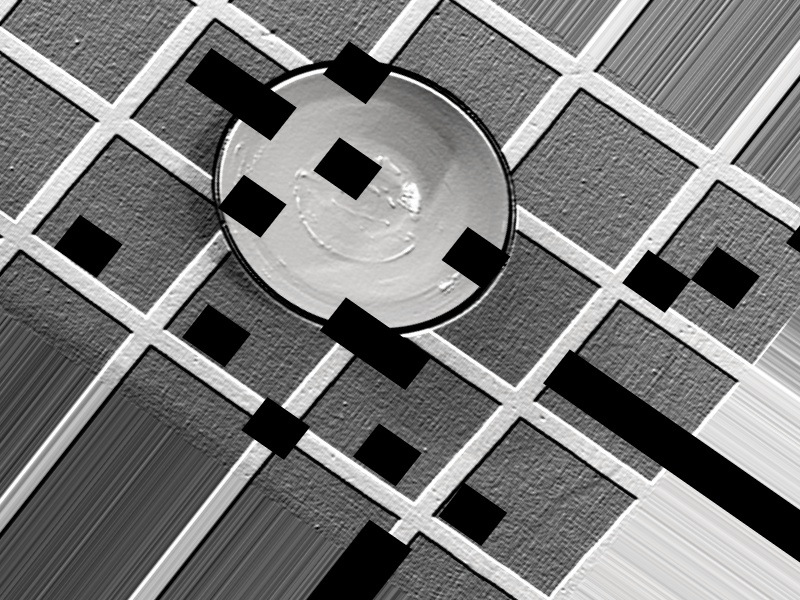bowl_small: (140, 0, 585, 405)
